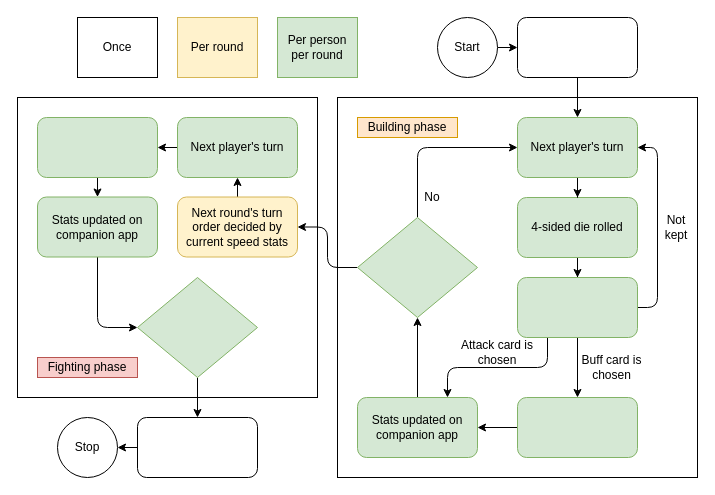
Image size: 715x495. Some labels were removed from this diagram. The centre of each missing label's shape, as x and y in pixels:
"Attack and buff cards shuffled; random god allotted per player" goes at [577,47].
"Attack chosen from attack cards, multiplier from app" goes at [97,147].
"Decision whether chosen card between attack or buff is to be kept" goes at [577,307].
"has any player reached threshold" goes at [417,267].
"has any player reached zero HP" goes at [197,327].
"If buff card is actionable, action committed" goes at [577,427].
"Player has lost" goes at [197,447].
